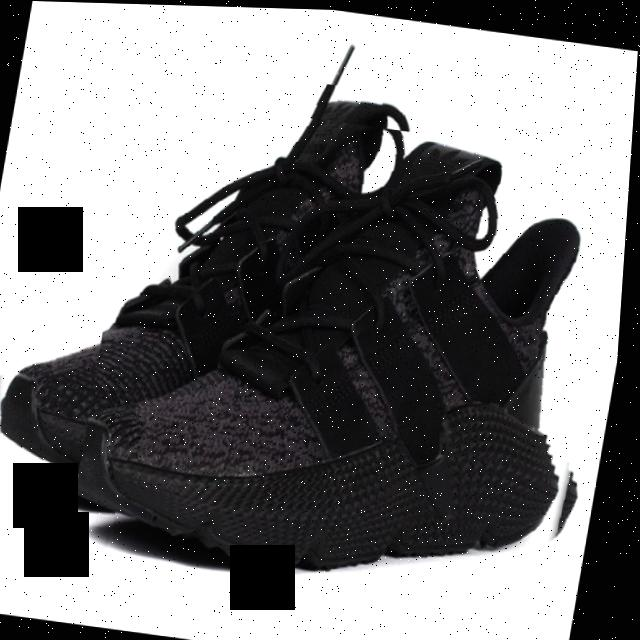shoe: (68, 93, 635, 622), (0, 43, 428, 563)
